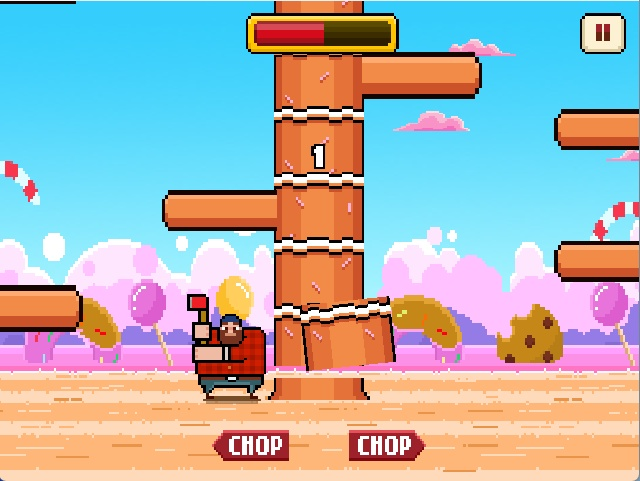left_obs: (153, 181, 278, 237)
right_obs: (360, 50, 485, 102)
timberman: (181, 287, 268, 406)
